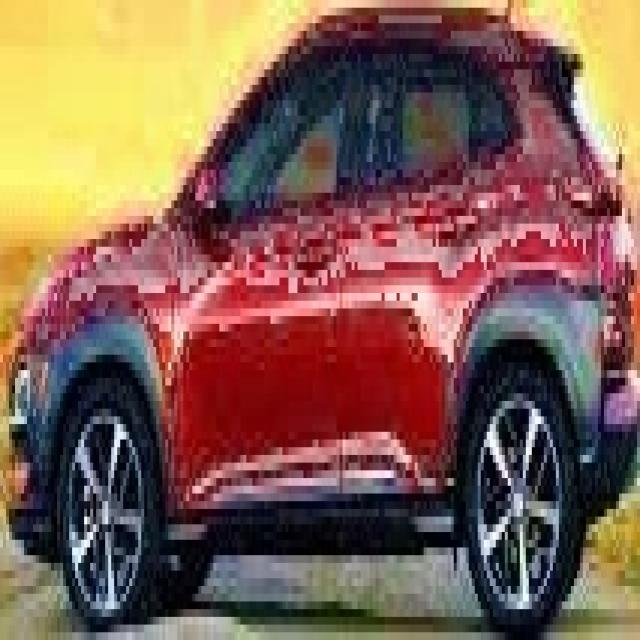maroon: (15, 31, 640, 617)
